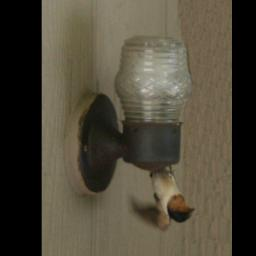Swallow: (128, 165, 195, 233)
